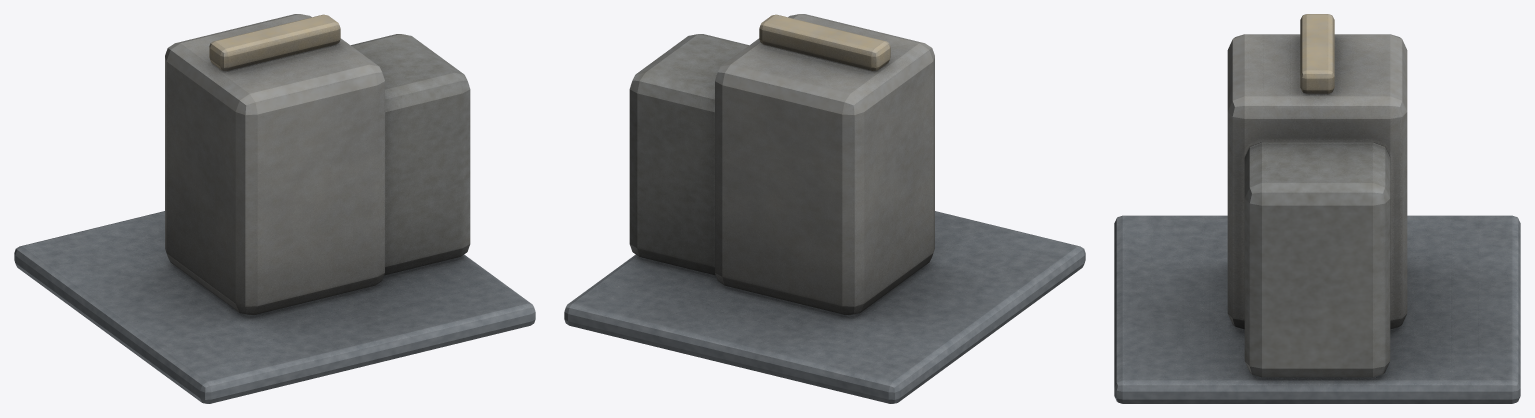
The model's file is com_wall_cap.glb.
The picture shows the model from 3 angles, left to right: view 1: azimuth 30°, elevation 25°; view 2: azimuth 150°, elevation 25°; view 3: azimuth 270°, elevation 25°; orthographic projection. The views are drawn at different scales.
Parts seen in each view (by area): view 1: com_wall_cap; view 2: com_wall_cap; view 3: com_wall_cap.
Part boxes in pixels (bbox=[...]): com_wall_cap: bbox=[14, 14, 535, 403]; com_wall_cap: bbox=[564, 14, 1085, 403]; com_wall_cap: bbox=[1114, 14, 1520, 403].
Bounding box in the file's own units: 0.95 × 0.72 × 0.95.
1 material, 1 textured.
